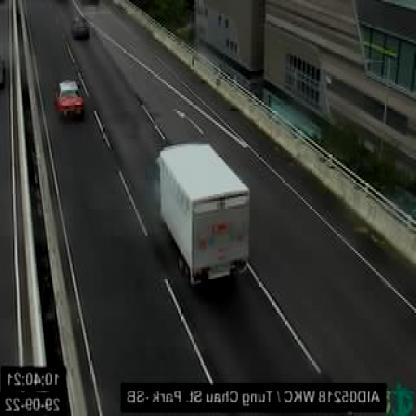Car: (51, 74, 88, 134), (66, 7, 94, 40)
Truck: (147, 138, 259, 288)
